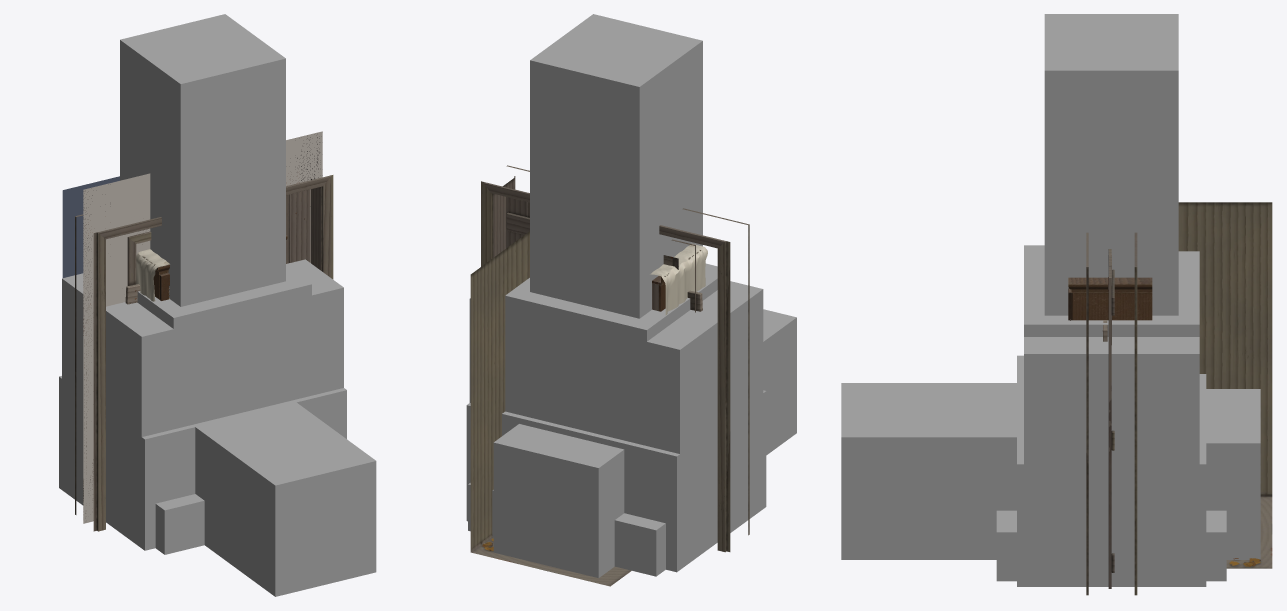
The model's file is attic.glb.
3 renders of one model, left to right at view 1: azimuth 30°, elevation 25°; view 2: azimuth 150°, elevation 25°; view 3: azimuth 270°, elevation 25°, orthographic. The views are drawn at different scales.
Visible parts, largest first — view 1: Col_chimney_breast_H400, Solid_iron_bed_sheeted, Isl_sheeted_armoire, Isl_sheeted_sofa, Isl_servant_bed, Door_closed_attic, Door_frame_attic, Isl_dress_forms, Win_oculus, Isl_trunk_pile, Isl_toy_circle, Solid_sheet_sofa (+6 smaller); view 2: Col_chimney_breast_H400, Isl_sheeted_sofa, Solid_sheet_sofa, Exit_attic_p0, Isl_sheeted_armoire, Isl_servant_bed, Door_frame_attic, Isl_trunk_pile, Solid_iron_bed_sheeted, Isl_toy_circle, Ward_body_attic, Isl_dress_forms (+1 smaller); view 3: Isl_sheeted_sofa, Col_chimney_breast_H400, Solid_iron_bed_sheeted, Isl_servant_bed, Exit_attic_p0, Solid_sheet_sofa, Isl_sheeted_armoire, Ward_body_attic, Isl_toy_circle, Door_frame_attic, Door_leaf_attic.
Part boxes in pixels (left/top/right/bottom): Col_chimney_breast_H400: left=120, top=14, right=285, bottom=306; Solid_iron_bed_sheeted: left=195, top=402, right=376, bottom=596; Isl_sheeted_armoire: left=137, top=265, right=311, bottom=428; Isl_sheeted_sofa: left=62, top=259, right=343, bottom=541; Isl_servant_bed: left=59, top=376, right=346, bottom=550; Door_closed_attic: left=83, top=131, right=322, bottom=523; Door_frame_attic: left=75, top=175, right=333, bottom=531; Isl_dress_forms: left=157, top=319, right=327, bottom=432; Win_oculus: left=83, top=132, right=322, bottom=522; Isl_trunk_pile: left=156, top=357, right=333, bottom=416; Isl_toy_circle: left=155, top=494, right=204, bottom=554; Solid_sheet_sofa: left=195, top=433, right=219, bottom=555; Col_chimney_breast_H400: left=530, top=14, right=702, bottom=318; Isl_sheeted_sofa: left=469, top=281, right=763, bottom=569; Solid_sheet_sofa: left=493, top=424, right=624, bottom=578; Exit_attic_p0: left=470, top=231, right=695, bottom=586; Isl_sheeted_armoire: left=505, top=263, right=717, bottom=441; Isl_servant_bed: left=466, top=390, right=766, bottom=572; Door_frame_attic: left=481, top=165, right=749, bottom=552; Isl_trunk_pile: left=505, top=377, right=668, bottom=451; Solid_iron_bed_sheeted: left=763, top=309, right=796, bottom=455; Isl_toy_circle: left=468, top=483, right=665, bottom=576; Ward_body_attic: left=650, top=243, right=707, bottom=315; Isl_dress_forms: left=523, top=342, right=663, bottom=414; Isl_sheeted_sofa: left=1024, top=245, right=1199, bottom=586; Col_chimney_breast_H400: left=1044, top=14, right=1178, bottom=315; Solid_iron_bed_sheeted: left=841, top=383, right=1023, bottom=559; Isl_servant_bed: left=1017, top=355, right=1206, bottom=586; Exit_attic_p0: left=1112, top=202, right=1272, bottom=568; Solid_sheet_sofa: left=963, top=389, right=1260, bottom=559; Isl_sheeted_armoire: left=1024, top=250, right=1199, bottom=336; Ward_body_attic: left=1068, top=277, right=1152, bottom=320; Isl_toy_circle: left=996, top=510, right=1226, bottom=581; Door_frame_attic: left=1086, top=232, right=1137, bottom=595; Door_leaf_attic: left=1108, top=249, right=1114, bottom=588.
Bounding box in the file's own units: 2.25 × 4.23 × 3.19.
18 materials, 13 textured.
